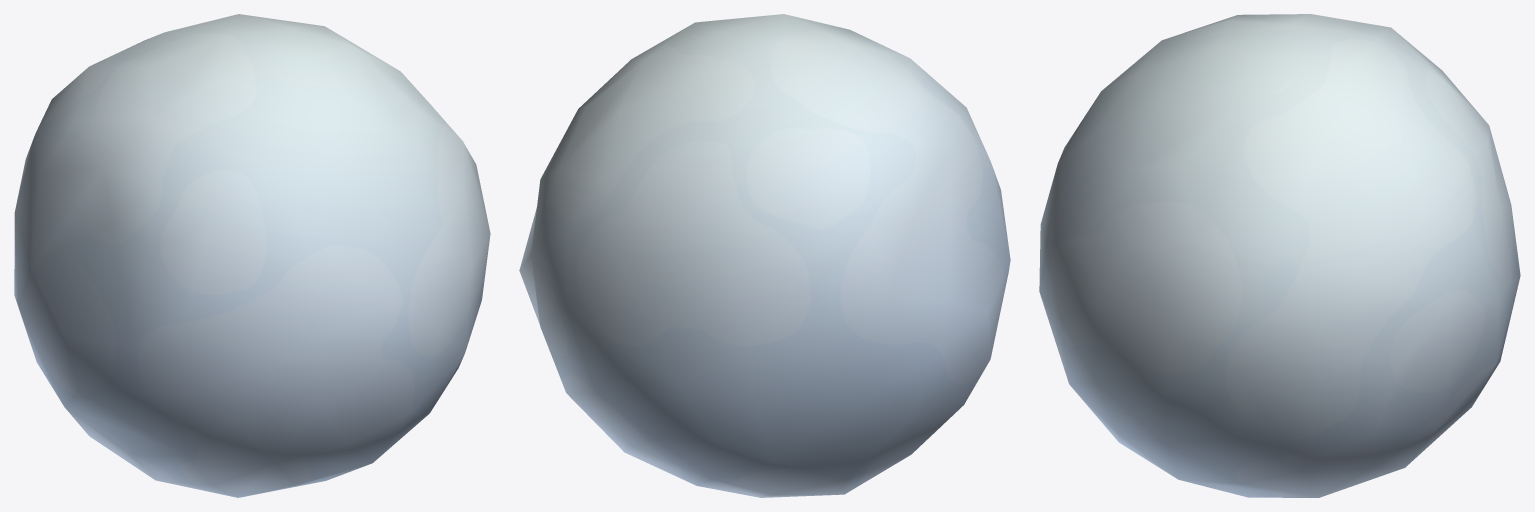
The model's file is snowball00.fbx.
3 views of the same model, side by side, from view 1: azimuth 30°, elevation 25°; view 2: azimuth 150°, elevation 25°; view 3: azimuth 270°, elevation 25° (orthographic).
Parts seen in each view (by area): view 1: Snowball00_final; view 2: Snowball00_final; view 3: Snowball00_final.
Boxes of the visible parts, x1,y1,x2,y2 form: Snowball00_final: (14,14,490,497); Snowball00_final: (519,14,1010,497); Snowball00_final: (1039,14,1520,497).
Size of the model in its own units: 0.096 by 0.0985 by 0.0967.
